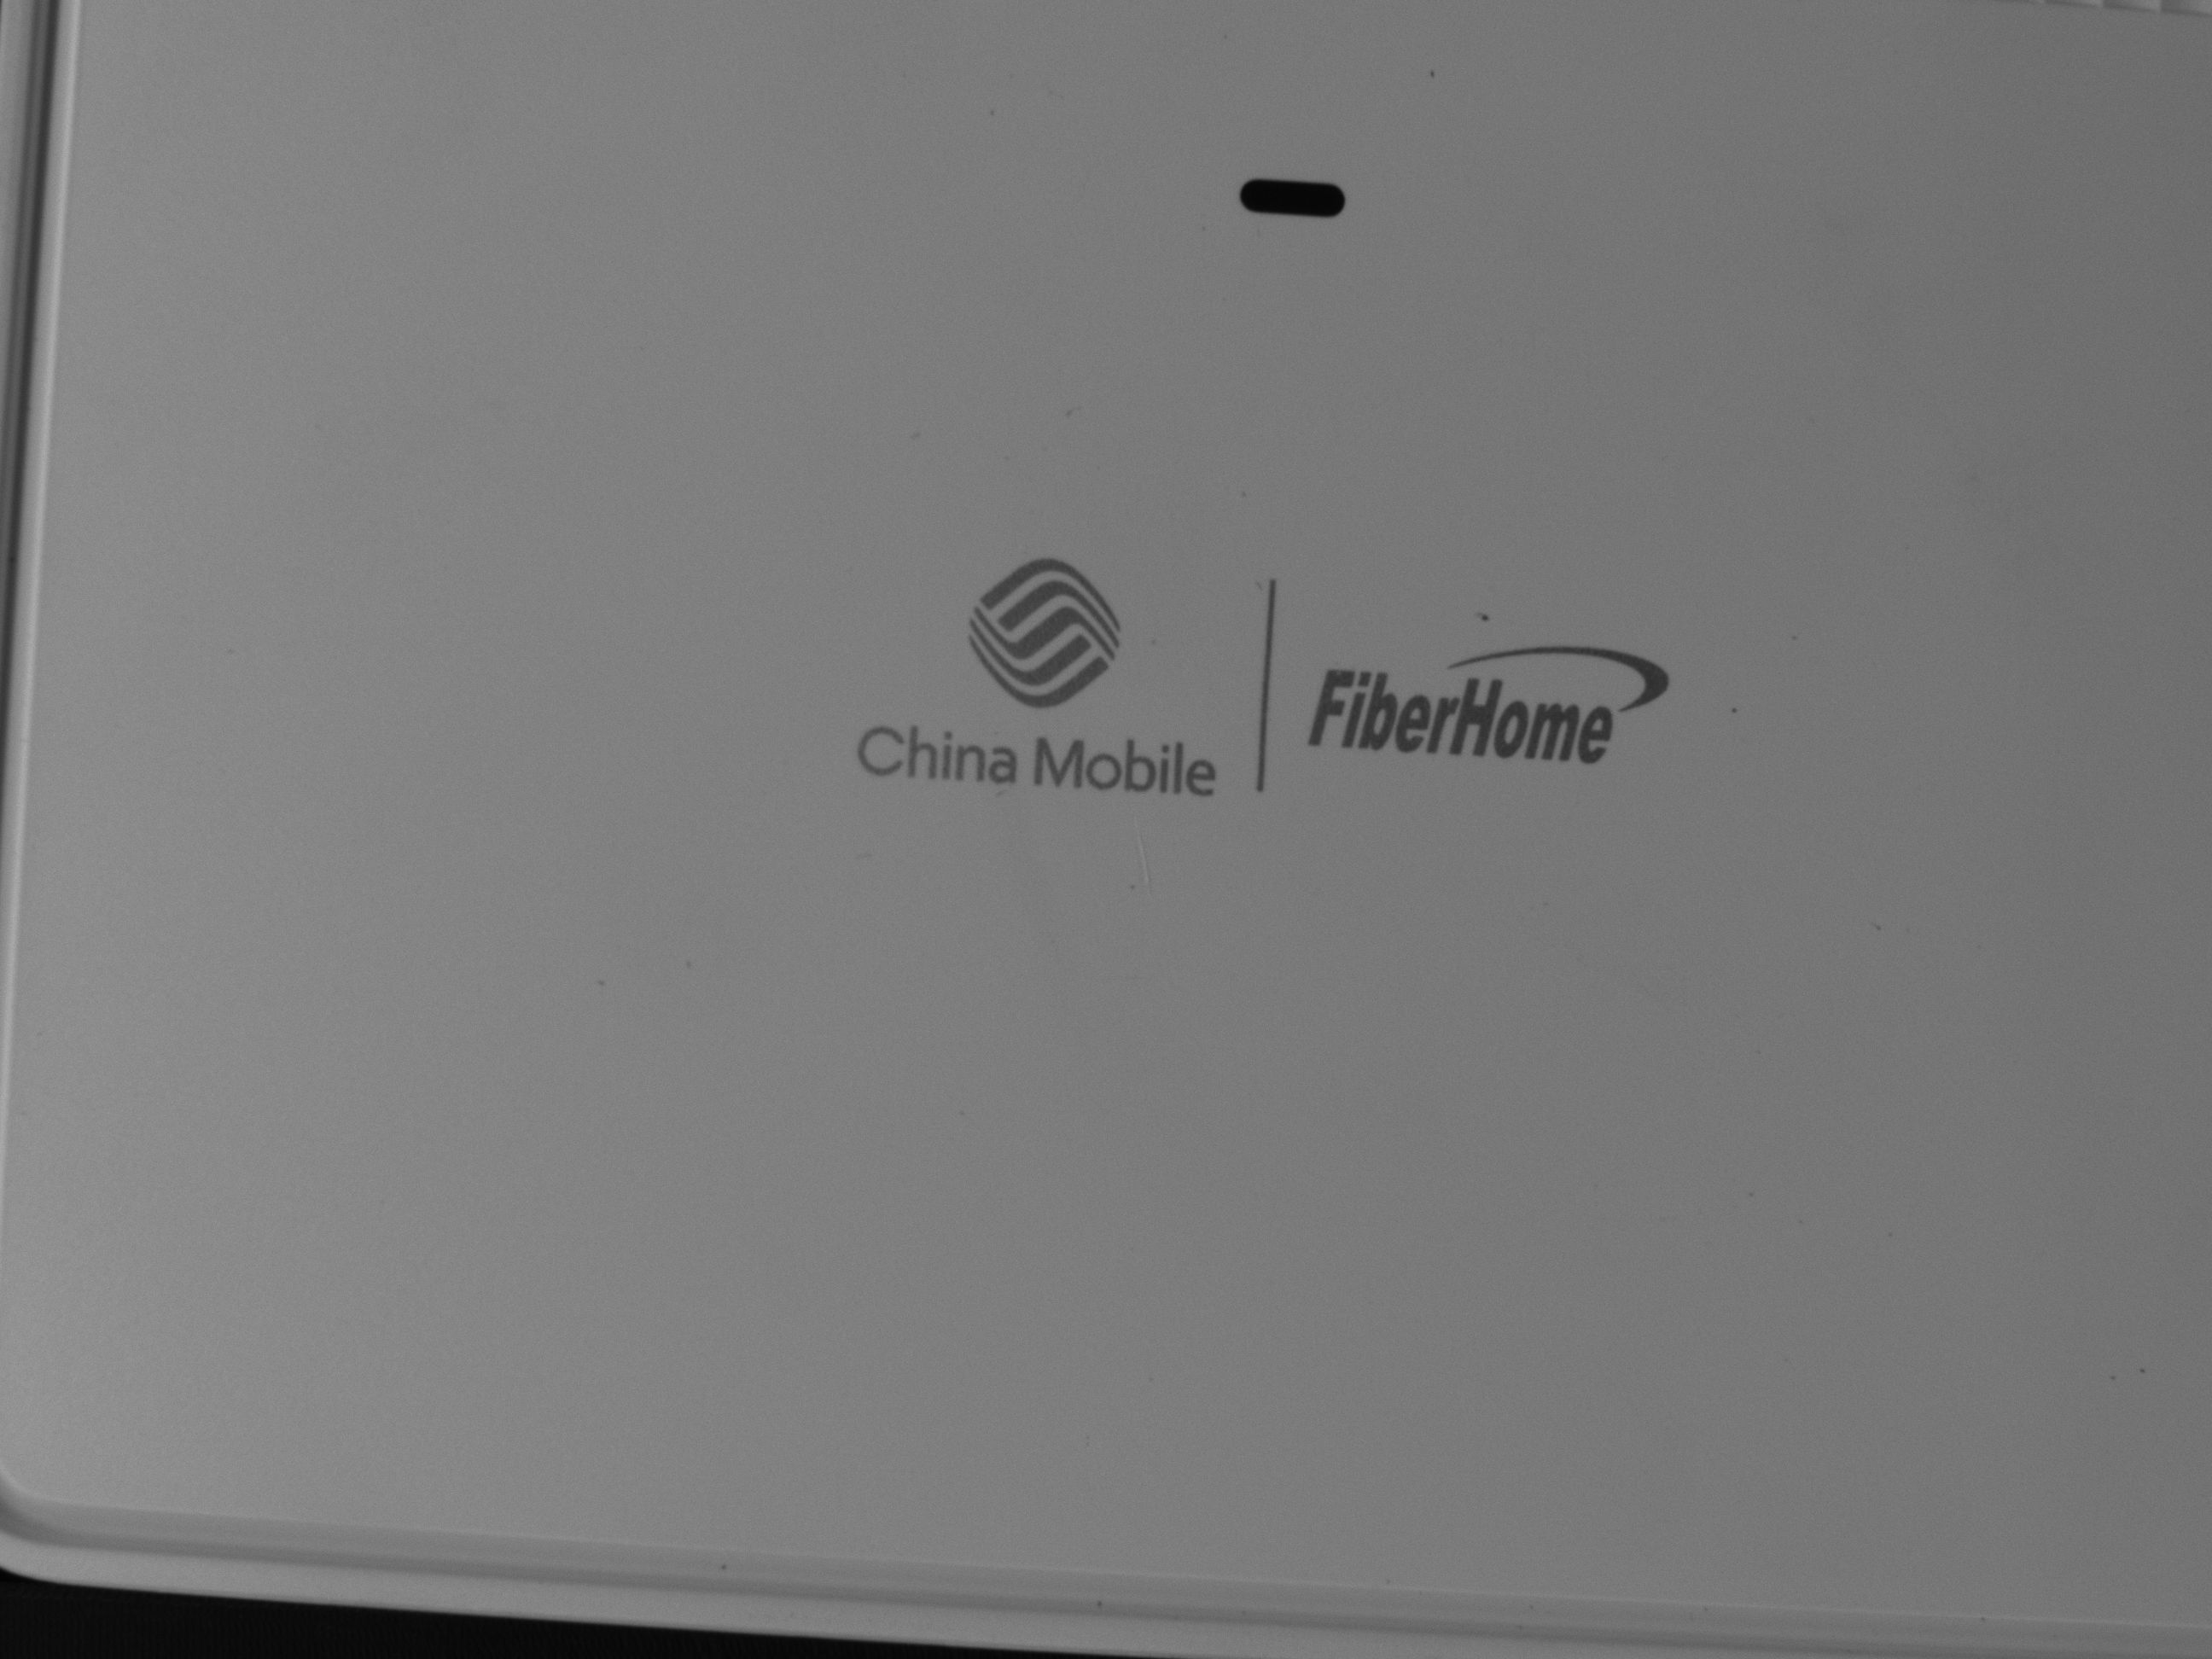BX_HG6371FMobileFiberhome: (836, 535, 1667, 814)
